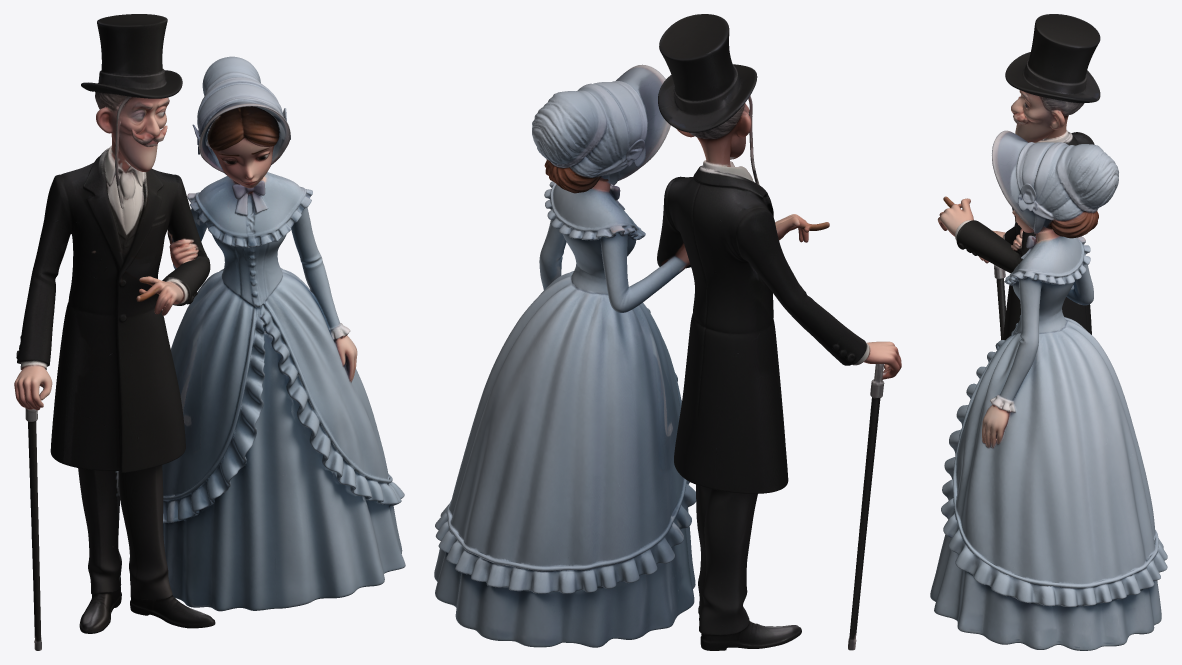
File: unequal_marriage-1.opt.glb
3 renders of one model, left to right at view 1: azimuth 30°, elevation 25°; view 2: azimuth 150°, elevation 25°; view 3: azimuth 270°, elevation 25°, orthographic. The views are drawn at different scales.
Bounding box in the file's own units: 1.35 × 1.9 × 0.7652.
1 material, 1 textured.
